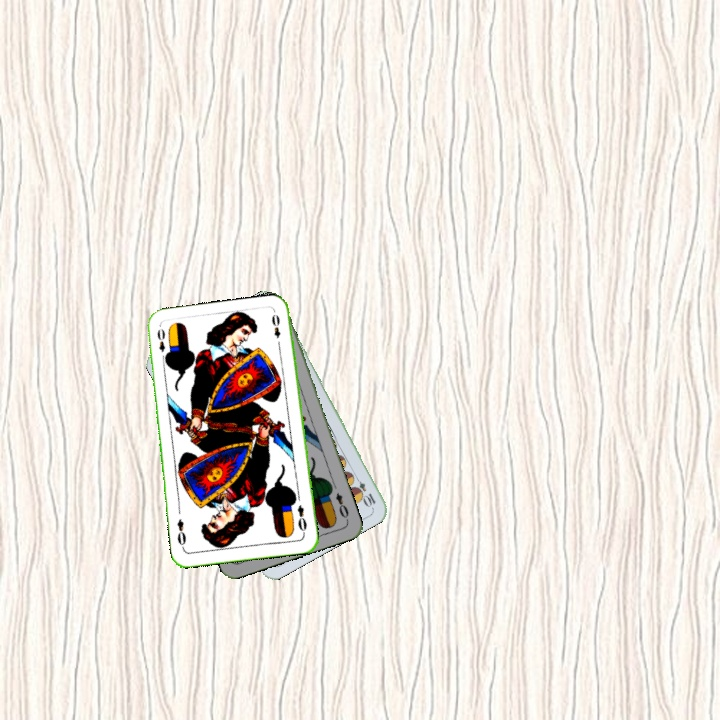E10: (349, 471, 378, 509)
EO: (153, 324, 170, 364), (332, 489, 351, 523), (293, 501, 309, 537)
